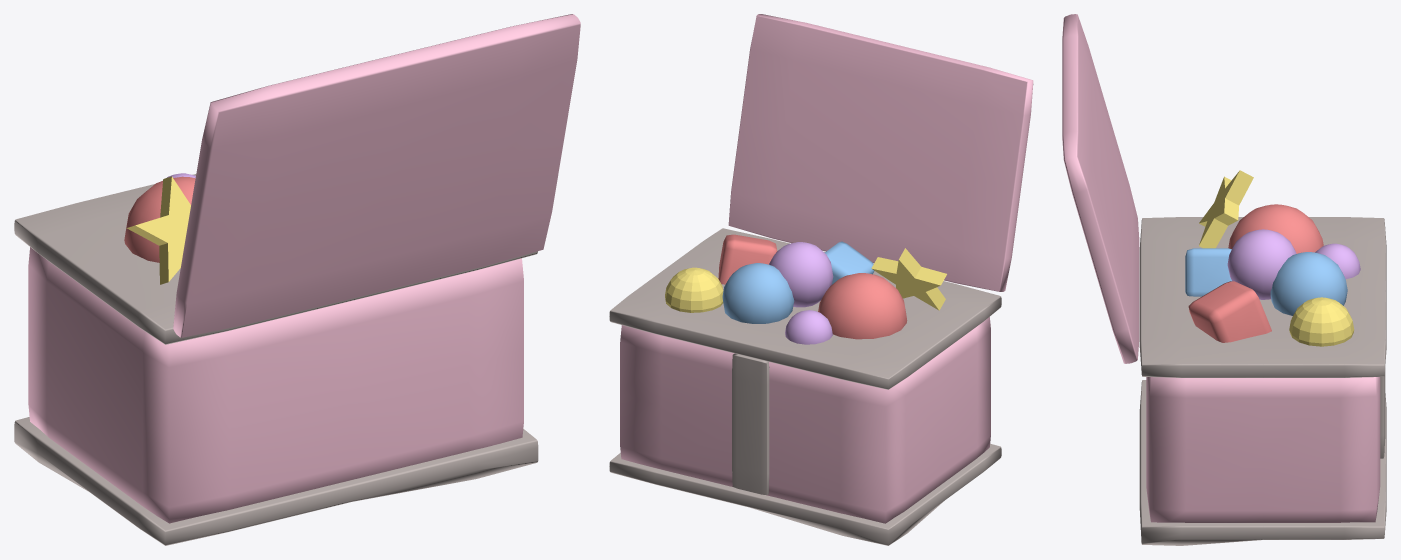
The model's file is MessyMemoryToyBox.glb.
3 renders of one model, left to right at view 1: azimuth 30°, elevation 25°; view 2: azimuth 150°, elevation 25°; view 3: azimuth 270°, elevation 25°, orthographic. The views are drawn at different scales.
Parts seen in each view (by area): view 1: Chest, Lid, Trim, PileYellow, PileRed; view 2: Lid, Chest, Trim, PileRed, PileBlue, PileYellow, PilePink; view 3: Chest, Trim, Lid, PileRed, PileBlue, PileYellow, PilePink.
Part boxes in pixels (x1,y1,x2,y2): Chest: (28,247,523,523); Lid: (173,14,580,337); Trim: (14,174,538,545); PileYellow: (127,176,190,284); PileRed: (124,176,195,262); Lid: (728,14,1033,291); Chest: (620,317,990,523); Trim: (609,228,1001,545); PileRed: (718,234,907,339); PileBlue: (722,241,874,323); PileYellow: (665,248,946,312); PilePink: (769,242,833,344); Chest: (1146,377,1380,522); Trim: (1139,217,1386,545); Lid: (1062,14,1139,363); PileRed: (1188,204,1323,342); PileBlue: (1185,248,1347,315); PileYellow: (1199,170,1354,346); PilePink: (1227,229,1360,299).
Size of the model in its own units: 5.4 by 6.63 by 4.99.
